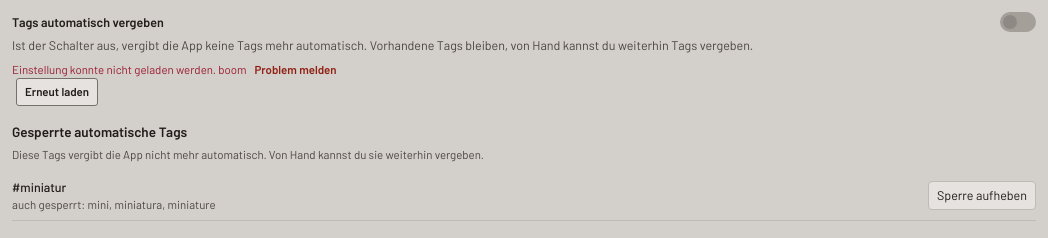
AutoTaggingSetting › does not claim "on" when the stored state cannot be read, and reads again on request
The image size is (1048, 238).
Expected: the message shows "Einstellung konnte nicht geladen werden.", [12, 62, 216, 76]
Expected: the switch named "Tags automatisch vergeben" is disabled, [1000, 12, 1036, 32]
Click the button "Erneut laden" at (57, 92), box [16, 78, 98, 106]
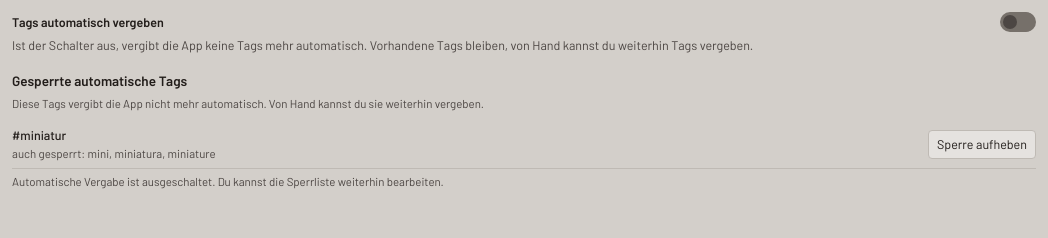
Result: the switch is enabled at [1000, 12, 1036, 32]
Result: the message "Einstellung konnte nicht geladen werden. boom Problem melden" is gone
Result: the text "Automatische Vergabe ist ausgeschaltet. Du kannst die Sperrliste weiterhin bearbeiten." is shown at [12, 174, 444, 188]
